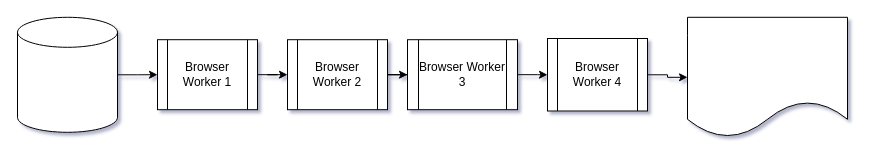
Image size: 871x161. Some labels were removed from this diagram. The centre of each missing label's shape, as x and y in pixels:
Final Excel File (Multi-sheet): point 767,76
URL Queue (from Excel): point 67,74
